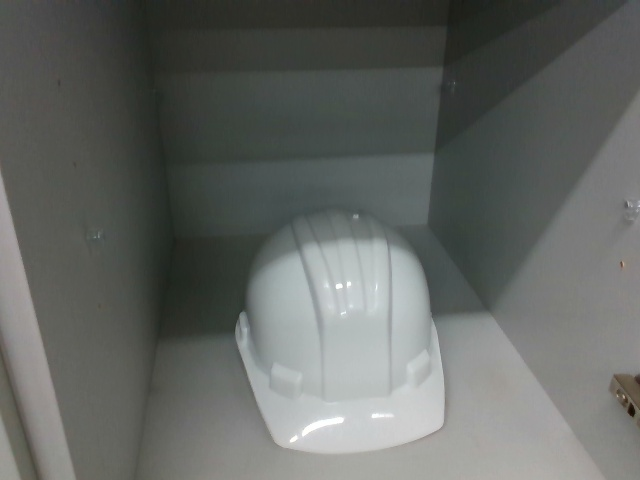helmet: (235, 212, 453, 454)
